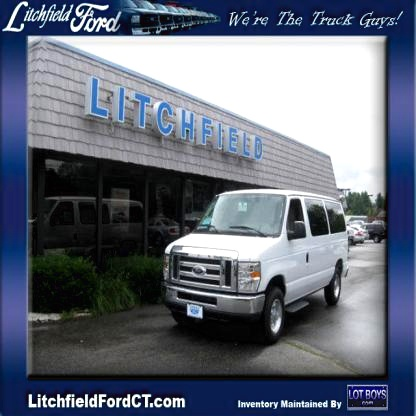Vehicle: (164, 188, 348, 340)
